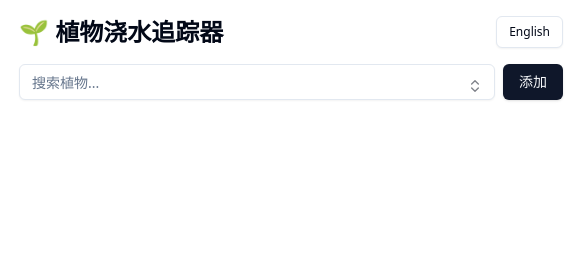
it: PlantTracker › Autocomplete functionality › handles keyboard navigation
Type "monstera" into the field with placeholder "搜索植物..." at [257, 82], box [19,64,495,100]
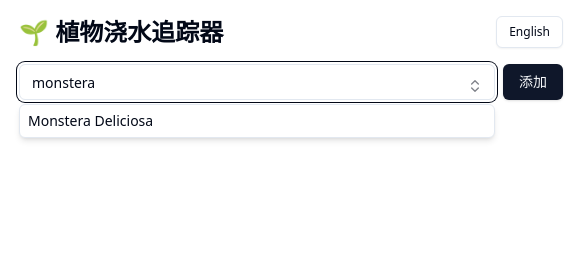
# Press arrow down to select first item
Press Arrowdown
# Press enter to add the plant
Press Enter
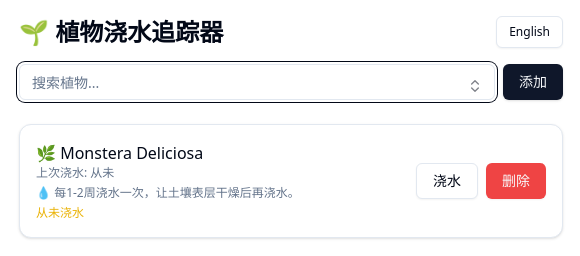
Result: the text "🌿 Monstera" is shown at [36,142,203,164]
